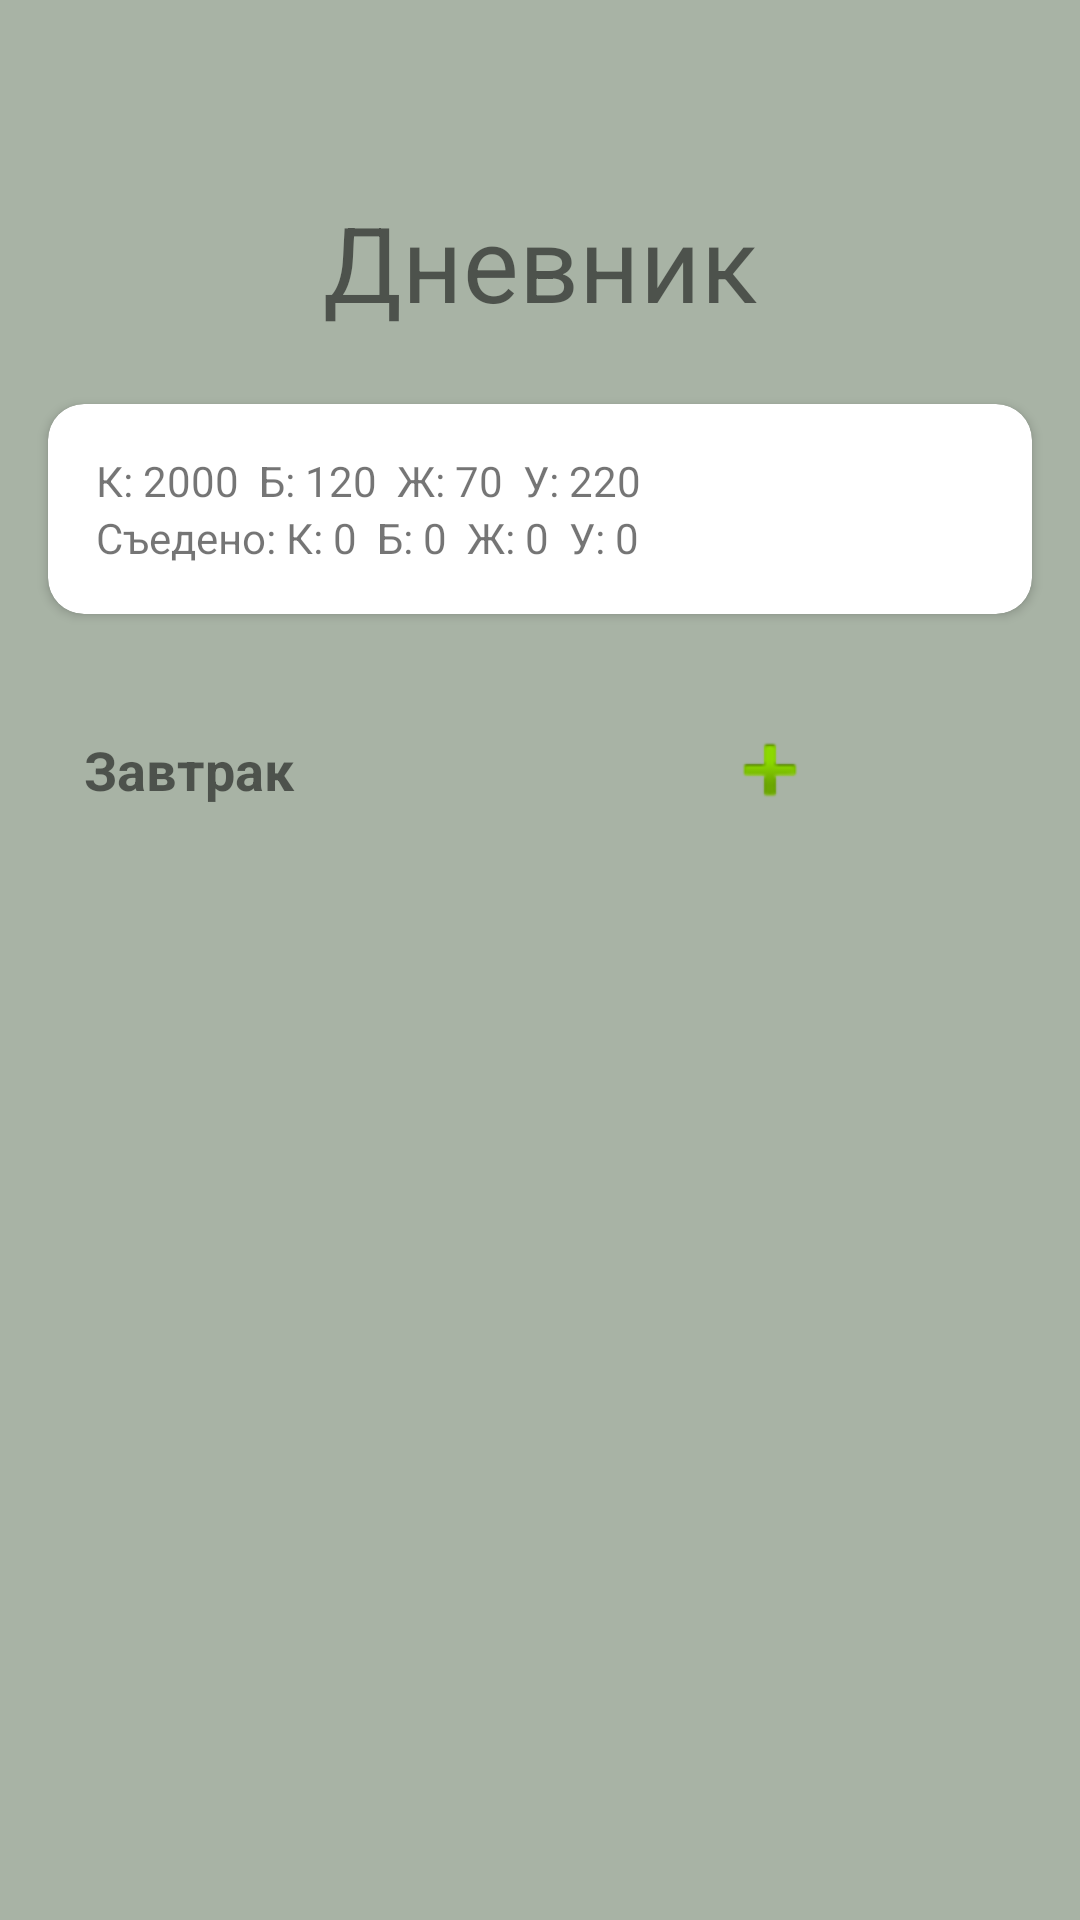

Screen size 1080×1920. Icon name, then its box in pixels as detection(x1, y1, x2, y2):
Добавить продукт: detection(743, 743, 797, 797)
